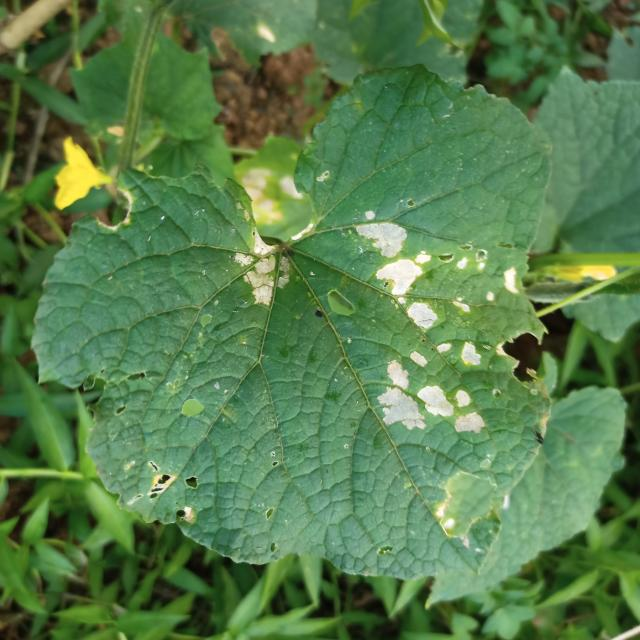disease_cucumber: (348, 204, 532, 340), (370, 340, 508, 454), (226, 221, 301, 311)
